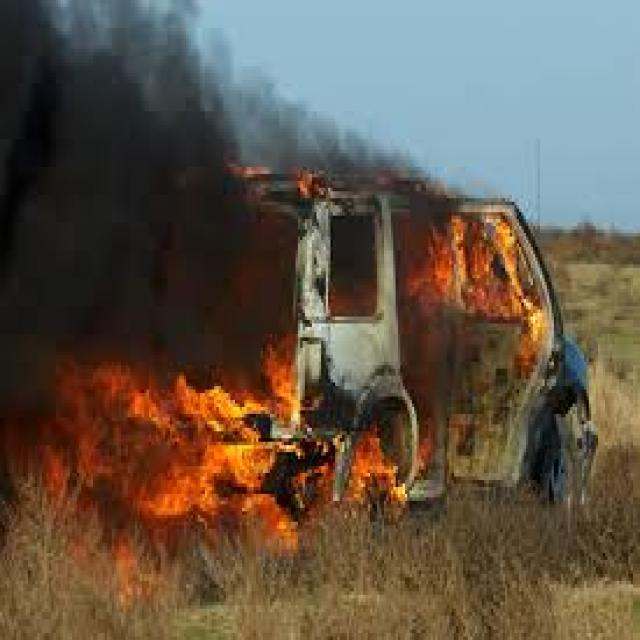fire: (54, 358, 424, 553), (426, 216, 549, 372)
smoke: (2, 4, 298, 352), (240, 80, 461, 195)
